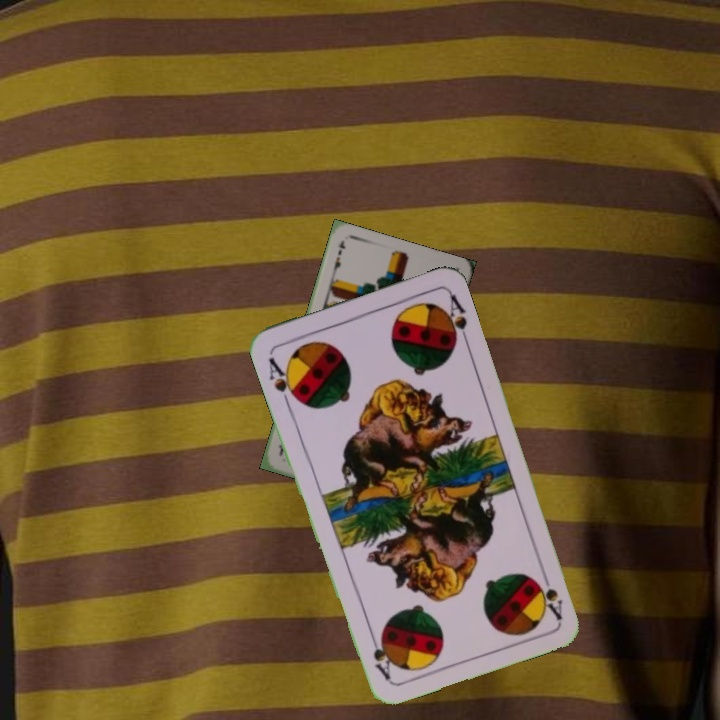E7: (329, 237, 348, 277)
SA: (264, 353, 302, 408), (530, 564, 565, 622)
